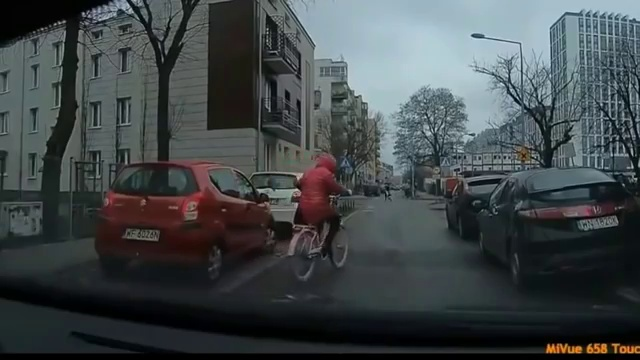cyclist_back: (287, 146, 353, 284)
